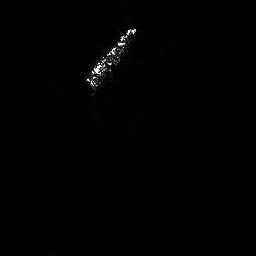ship: (78, 24, 140, 95)
